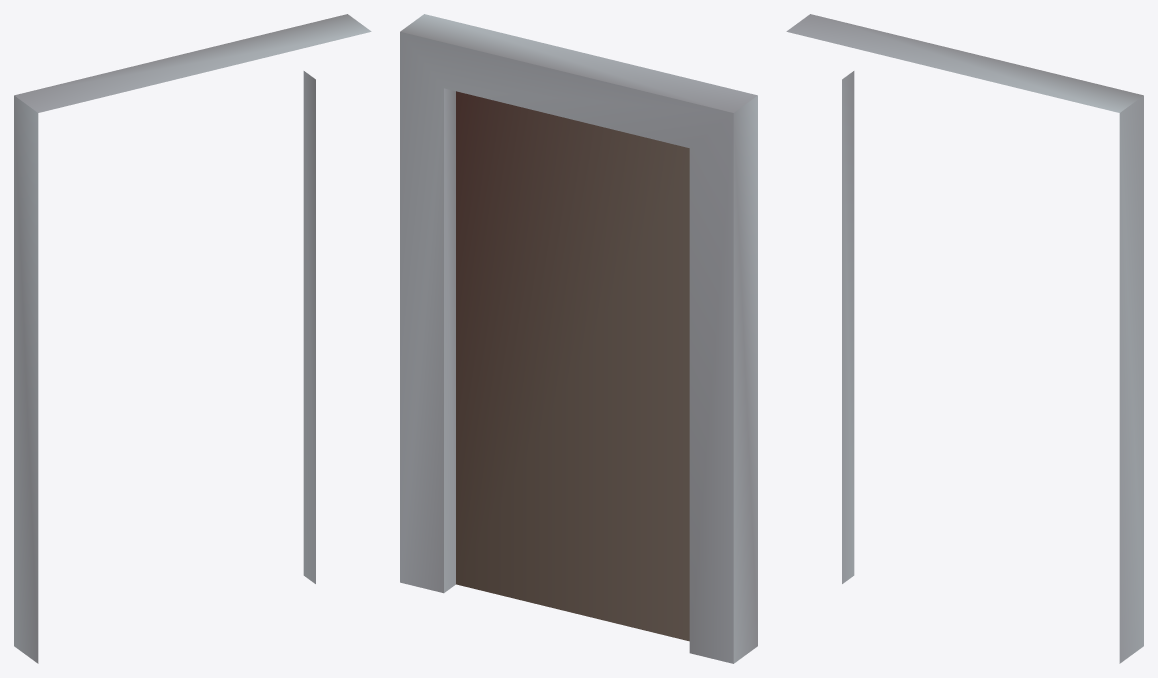
File: door-type-b.glb
3 views of the same model, side by side, from view 1: azimuth 30°, elevation 25°; view 2: azimuth 150°, elevation 25°; view 3: azimuth 330°, elevation 25° (orthographic).
Parts seen in each view (by area): view 1: door-type-b; view 2: door-type-b; view 3: door-type-b.
Boxes of the visible parts, x1,y1,x2,y2 form: door-type-b: [14, 14, 371, 663]; door-type-b: [400, 14, 757, 663]; door-type-b: [786, 14, 1143, 663].
Bounding box in the file's own units: 0.3978 × 0.6278 × 0.05.
